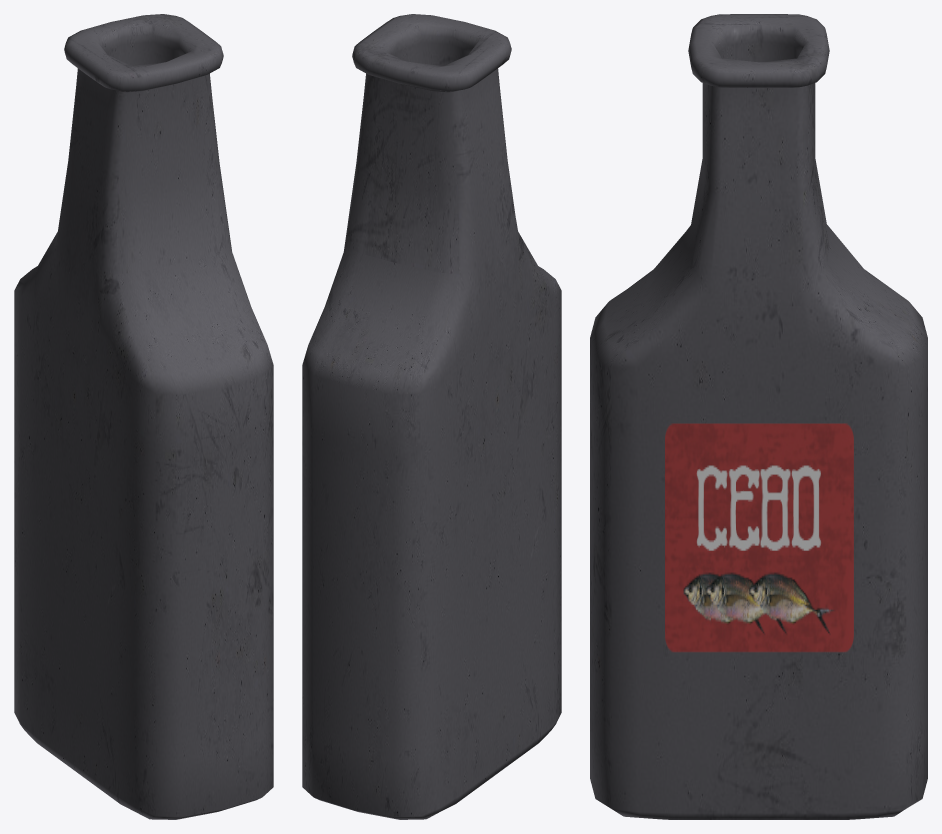
Rendered from Cebo.fbx.
3 views of the same model, side by side, from view 1: azimuth 30°, elevation 25°; view 2: azimuth 150°, elevation 25°; view 3: azimuth 270°, elevation 25° (orthographic). The views are drawn at different scales.
Parts seen in each view (by area): view 1: pCube1; view 2: pCube1; view 3: pCube1.
Boxes of the visible parts, x1,y1,x2,y2 form: pCube1: (14,14,273,819); pCube1: (302,14,561,819); pCube1: (590,14,927,819).
Size of the model in its own units: 0.3195 by 1.62 by 0.6627.
1 material, 1 textured.
